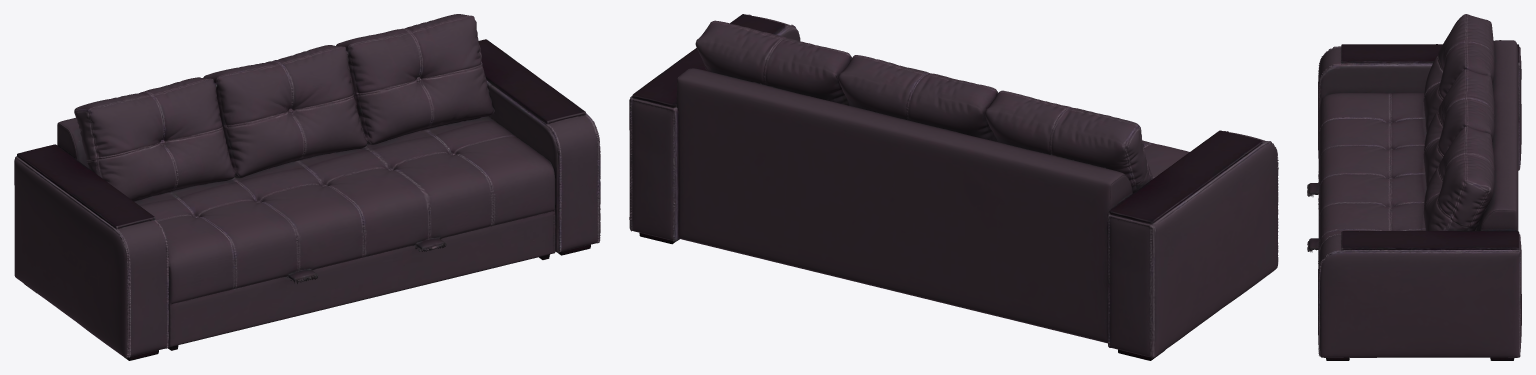
File: SpIid.glb
The picture shows the model from 3 angles, left to right: view 1: azimuth 30°, elevation 25°; view 2: azimuth 150°, elevation 25°; view 3: azimuth 270°, elevation 25°; orthographic projection. The views are drawn at different scales.
Visible parts, largest first — view 1: tripo_node_0ef93fe7-bc6e-4bf3-ada3-9c9c52a39fd3; view 2: tripo_node_0ef93fe7-bc6e-4bf3-ada3-9c9c52a39fd3; view 3: tripo_node_0ef93fe7-bc6e-4bf3-ada3-9c9c52a39fd3.
Boxes of the visible parts, left/top/right/bottom form: tripo_node_0ef93fe7-bc6e-4bf3-ada3-9c9c52a39fd3: left=14, top=14, right=600, bottom=360; tripo_node_0ef93fe7-bc6e-4bf3-ada3-9c9c52a39fd3: left=629, top=14, right=1278, bottom=360; tripo_node_0ef93fe7-bc6e-4bf3-ada3-9c9c52a39fd3: left=1307, top=14, right=1521, bottom=360.
Bounding box in the file's own units: 0.9806 × 0.3621 × 0.4263.
Materials: 1 (1 with a texture image).
